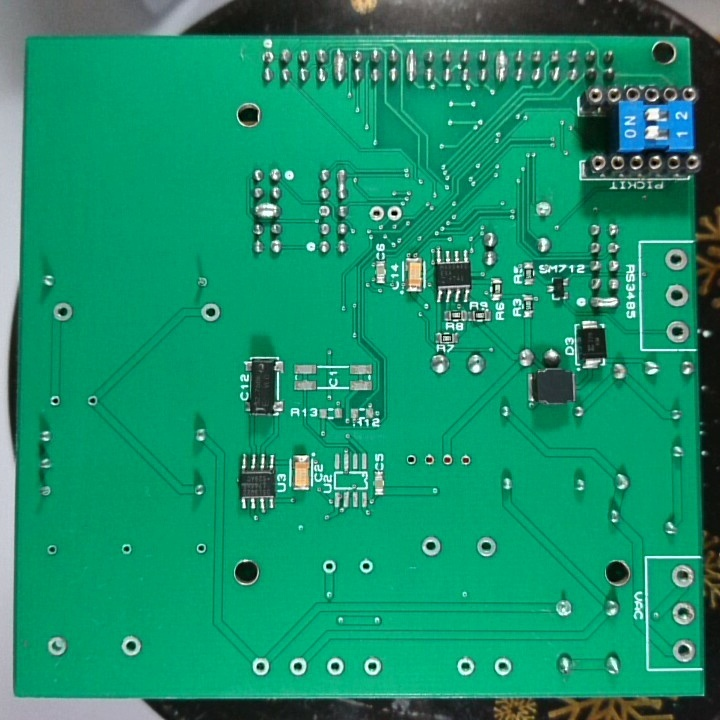F: (668, 598, 698, 629), (662, 280, 691, 312), (670, 562, 696, 597), (359, 649, 385, 683), (663, 317, 692, 346), (662, 246, 690, 275), (670, 635, 697, 665), (247, 652, 275, 680), (197, 299, 225, 327), (43, 632, 72, 658), (118, 632, 144, 660), (474, 534, 499, 563), (49, 299, 76, 325), (418, 532, 442, 561), (551, 595, 576, 622), (491, 654, 516, 681), (324, 653, 348, 680), (453, 653, 477, 680), (287, 654, 310, 681), (532, 199, 556, 223), (320, 555, 340, 580), (384, 203, 404, 223), (35, 483, 55, 503), (192, 272, 213, 291), (356, 555, 373, 578), (117, 539, 136, 559), (193, 538, 210, 560), (458, 449, 474, 472), (367, 203, 385, 223), (439, 451, 456, 470), (421, 449, 436, 469), (259, 49, 276, 66), (84, 392, 101, 409), (46, 392, 63, 409), (403, 451, 419, 469), (45, 540, 60, 559), (316, 203, 332, 220)
P: (492, 48, 510, 88), (334, 166, 352, 203), (249, 202, 285, 220), (330, 46, 345, 86), (403, 46, 418, 85), (588, 295, 619, 310)
